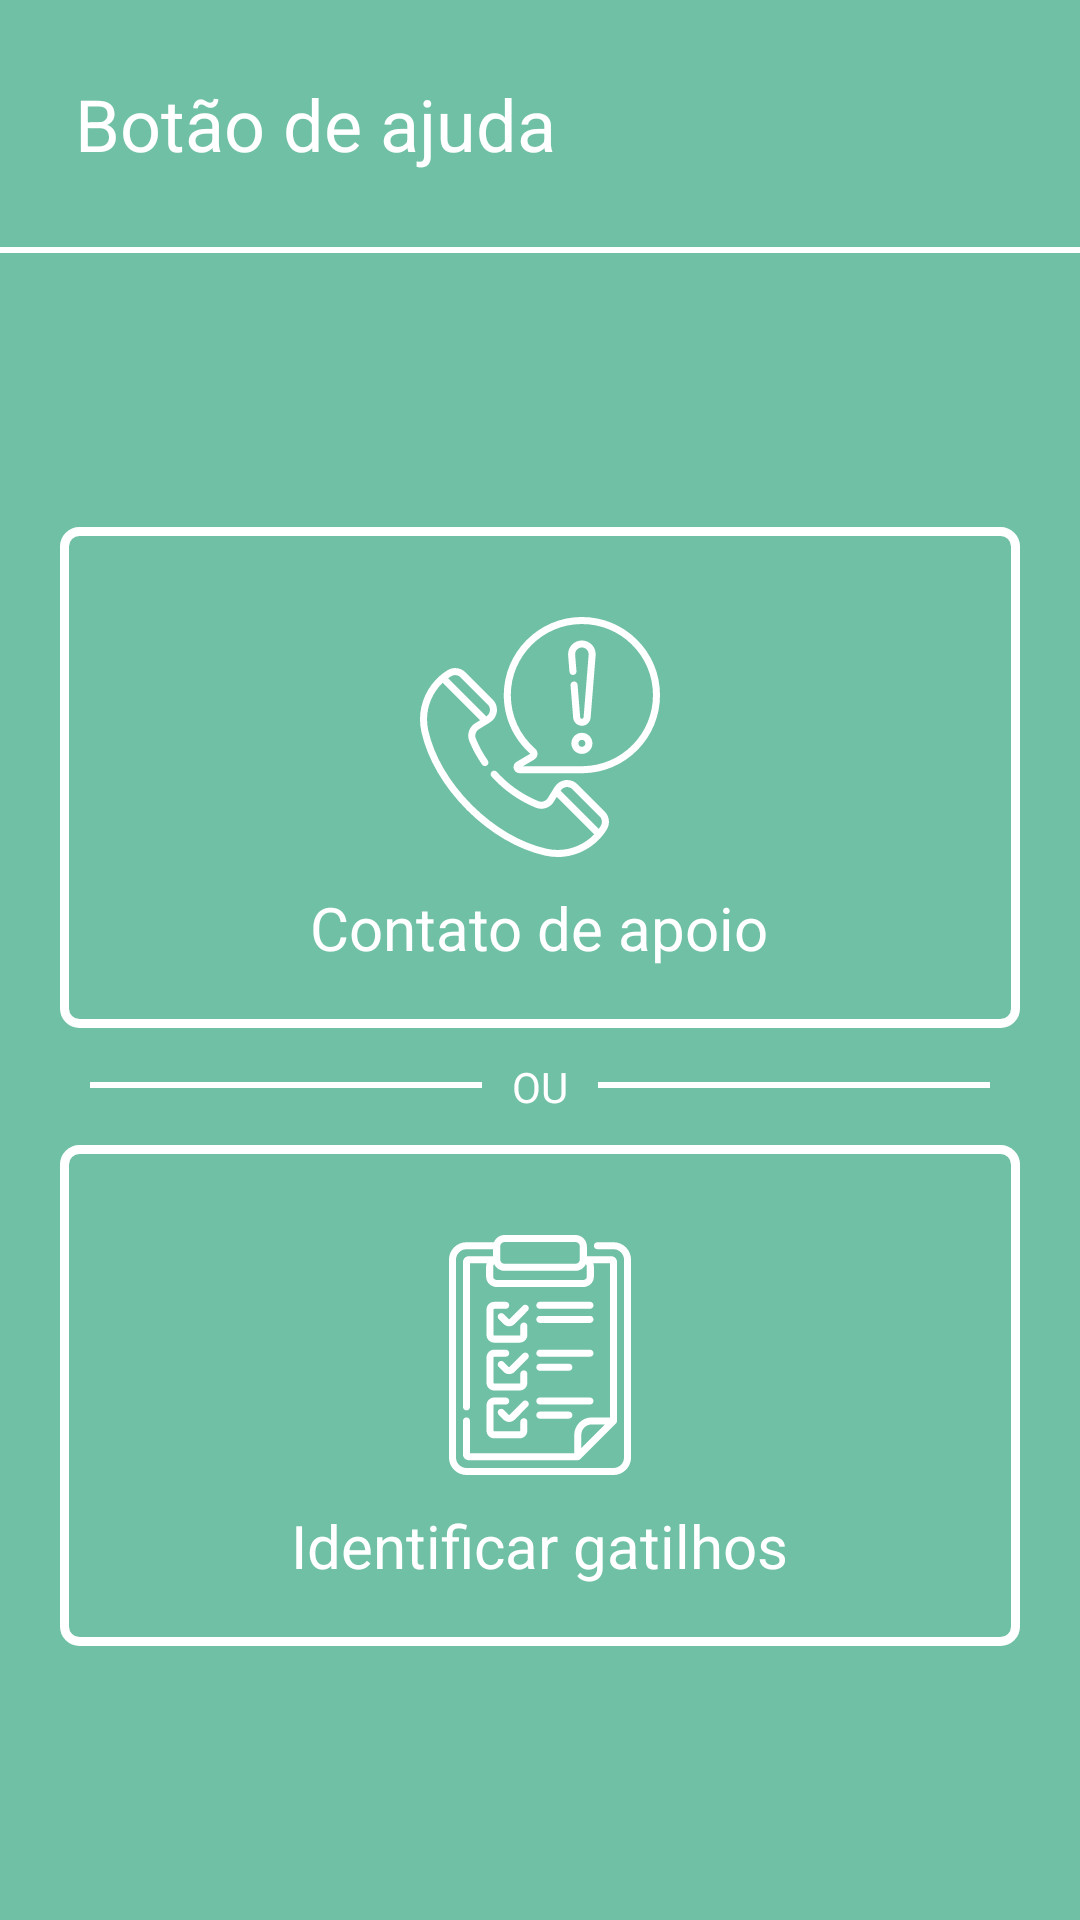

Where to tap for icons on this 1080w x 1920h app screen, as (x,y):
checklist: (540,1355)
ligacao: (540,737)
